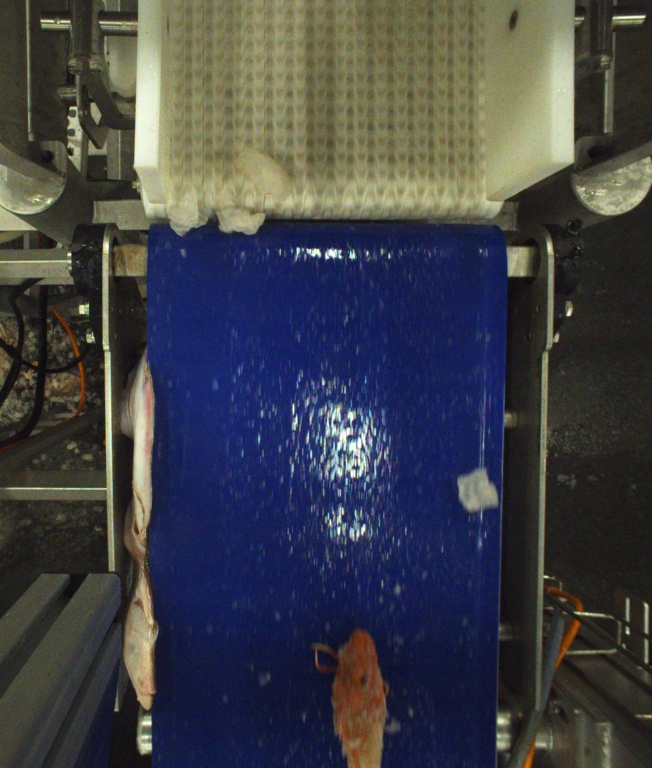GUU: (313, 629, 388, 768)
